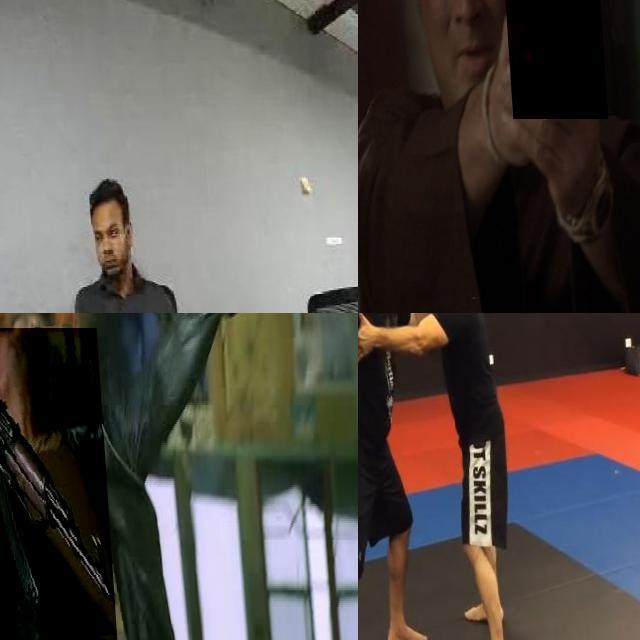-: (358, 445, 384, 525)
gun-knife-thesis - v11 Yolov5 augmented: (0, 327, 112, 640), (499, 0, 604, 119)
